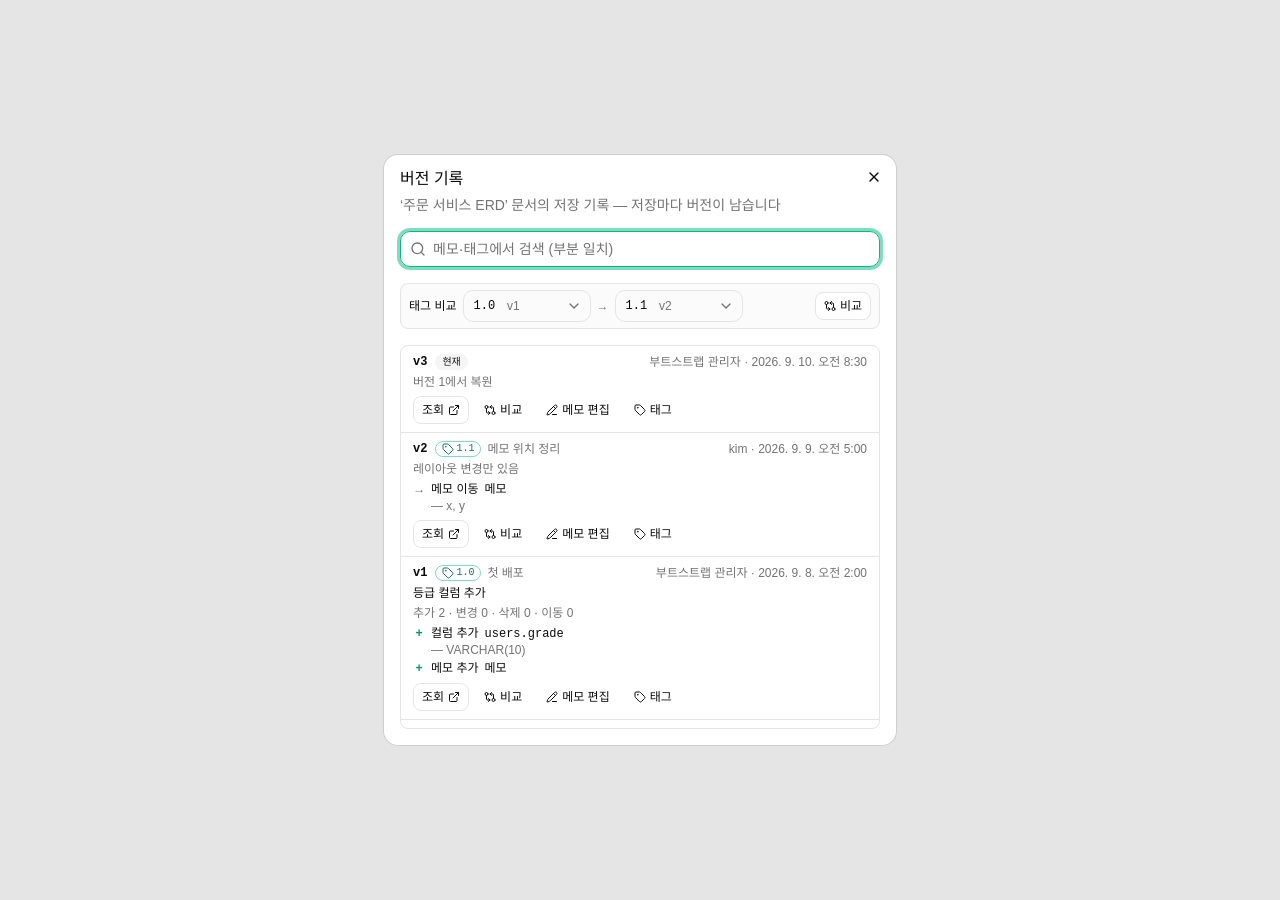
Test: VersionHistoryDialog — 태그 › 태그와 설명을 붙이면 PATCH 뒤 목록에 보인다
Click the button with test id "version-tag-edit" at (653, 410), box [625,396,681,424]
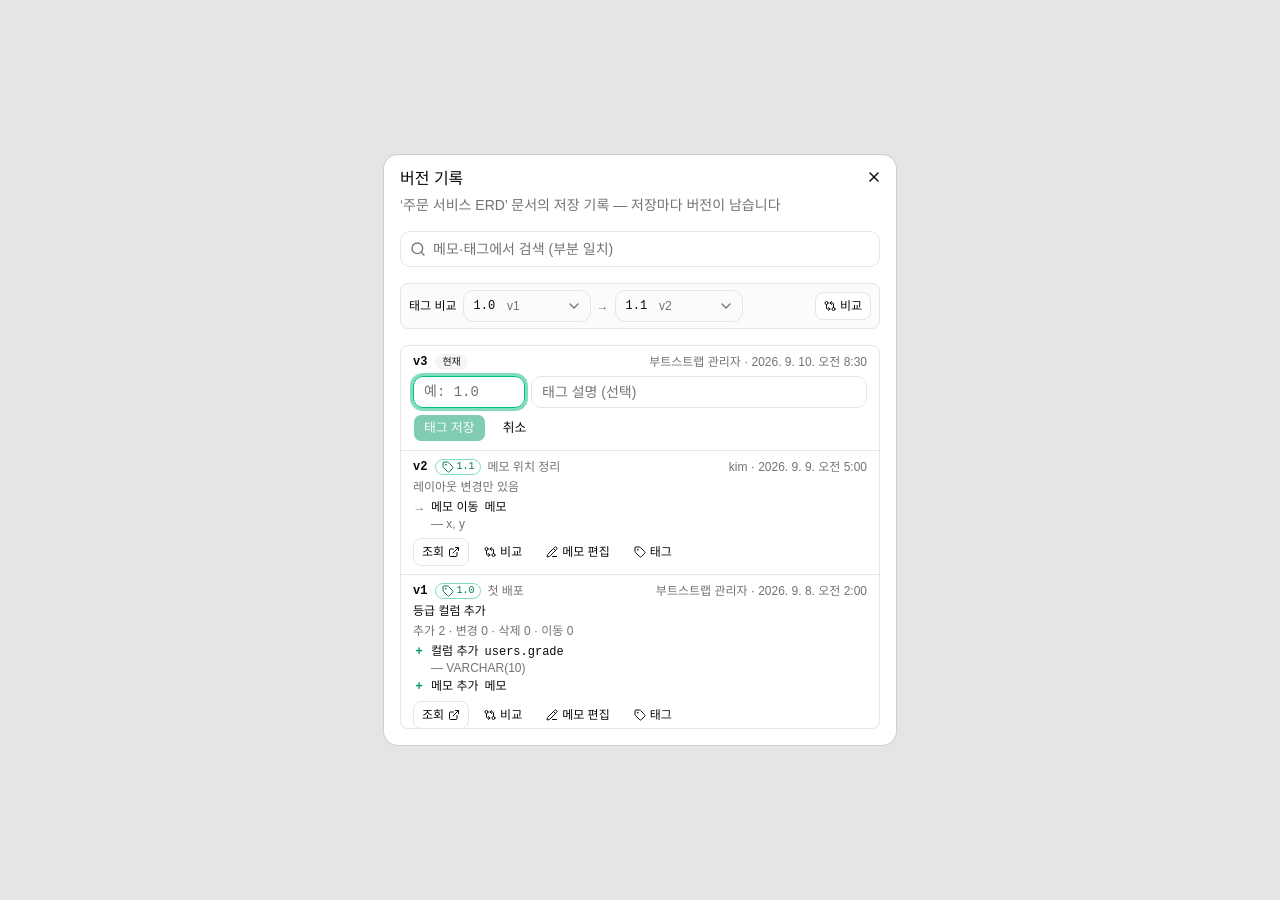
Type " 1.2 " into the field with test id "version-tag-input" at (469, 392), box [413,376,525,408]
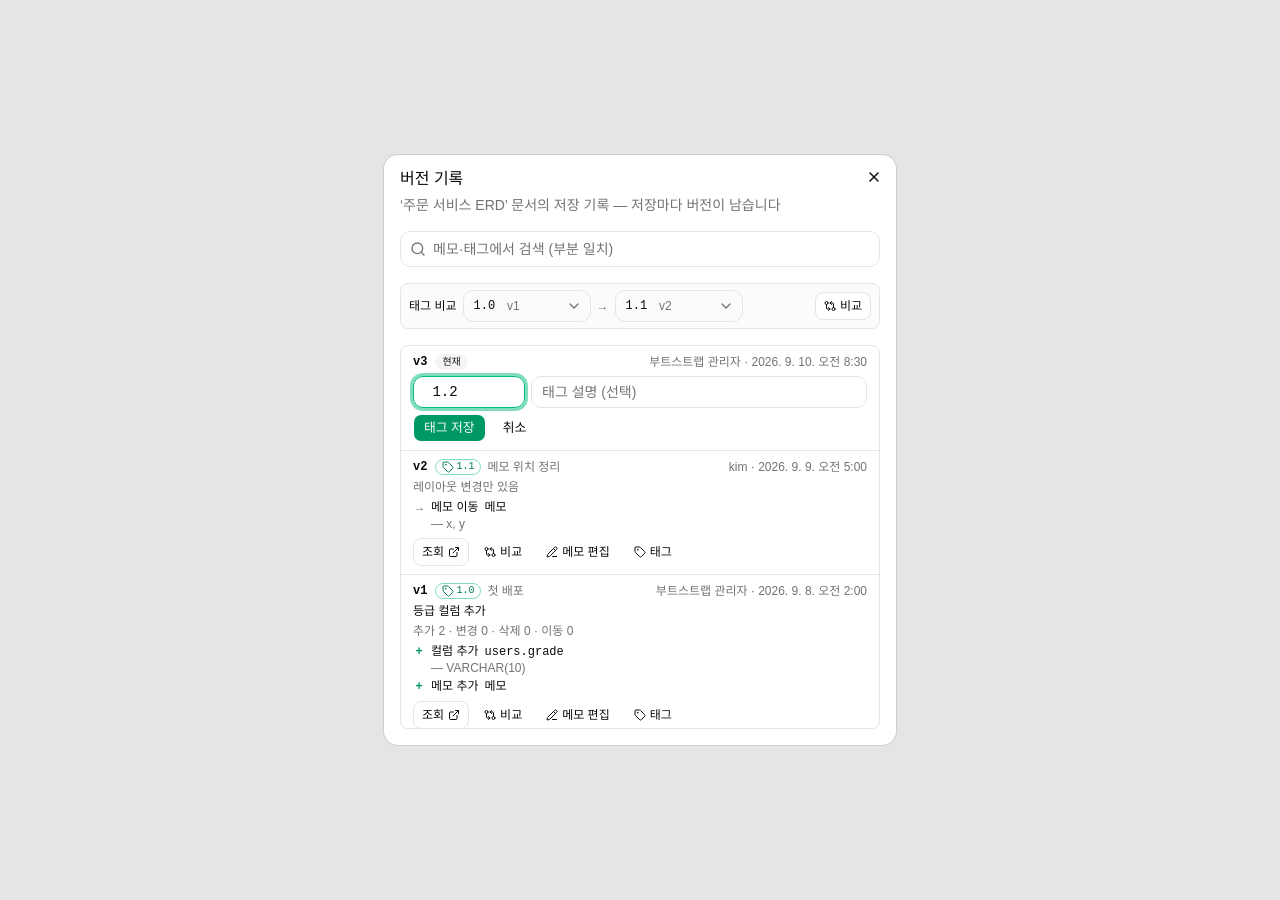
Type "결제 추가" into the field with test id "version-tag-description-input" at (699, 392), box [531,376,867,408]
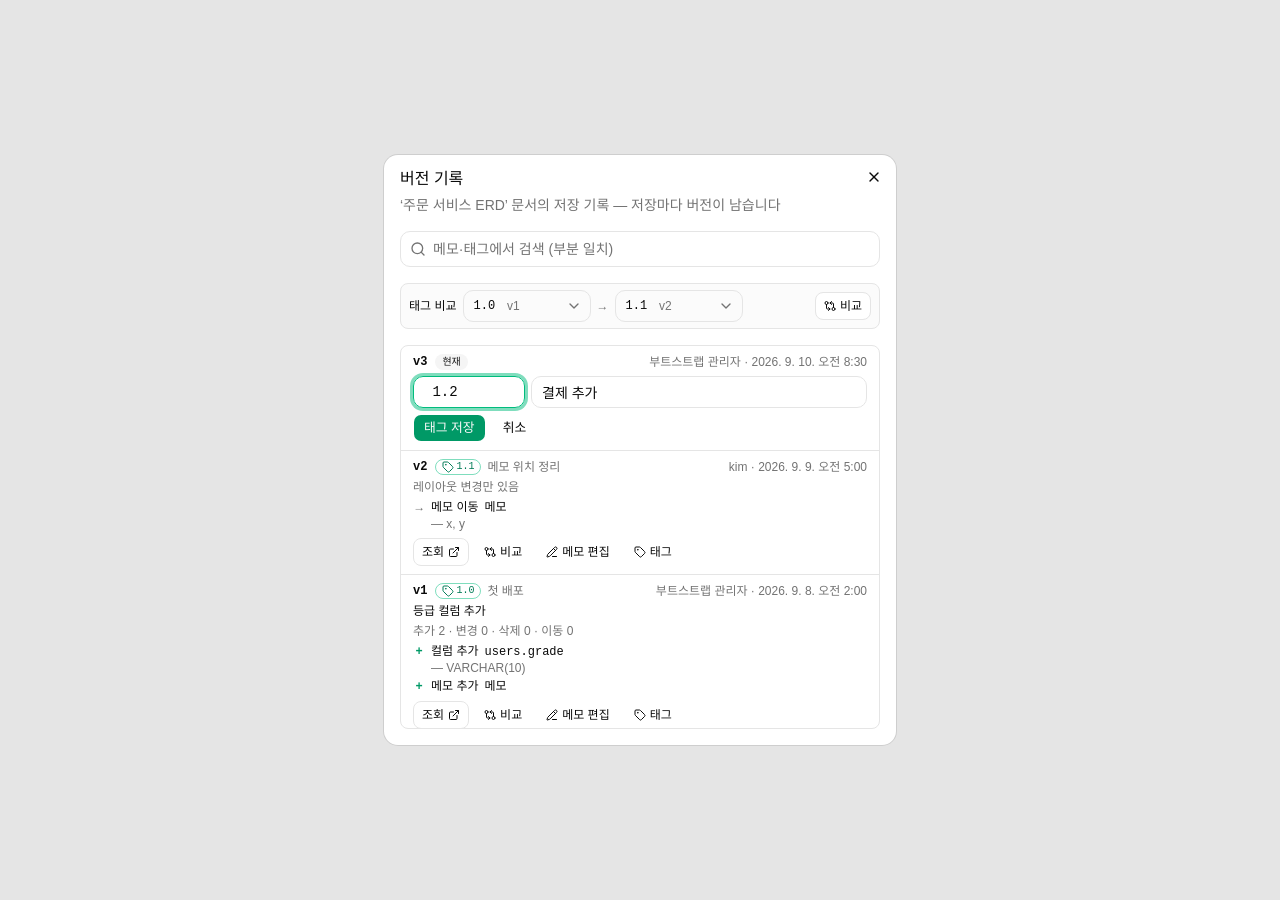
Click the button "태그 저장" at (449, 428), box [413,414,486,442]
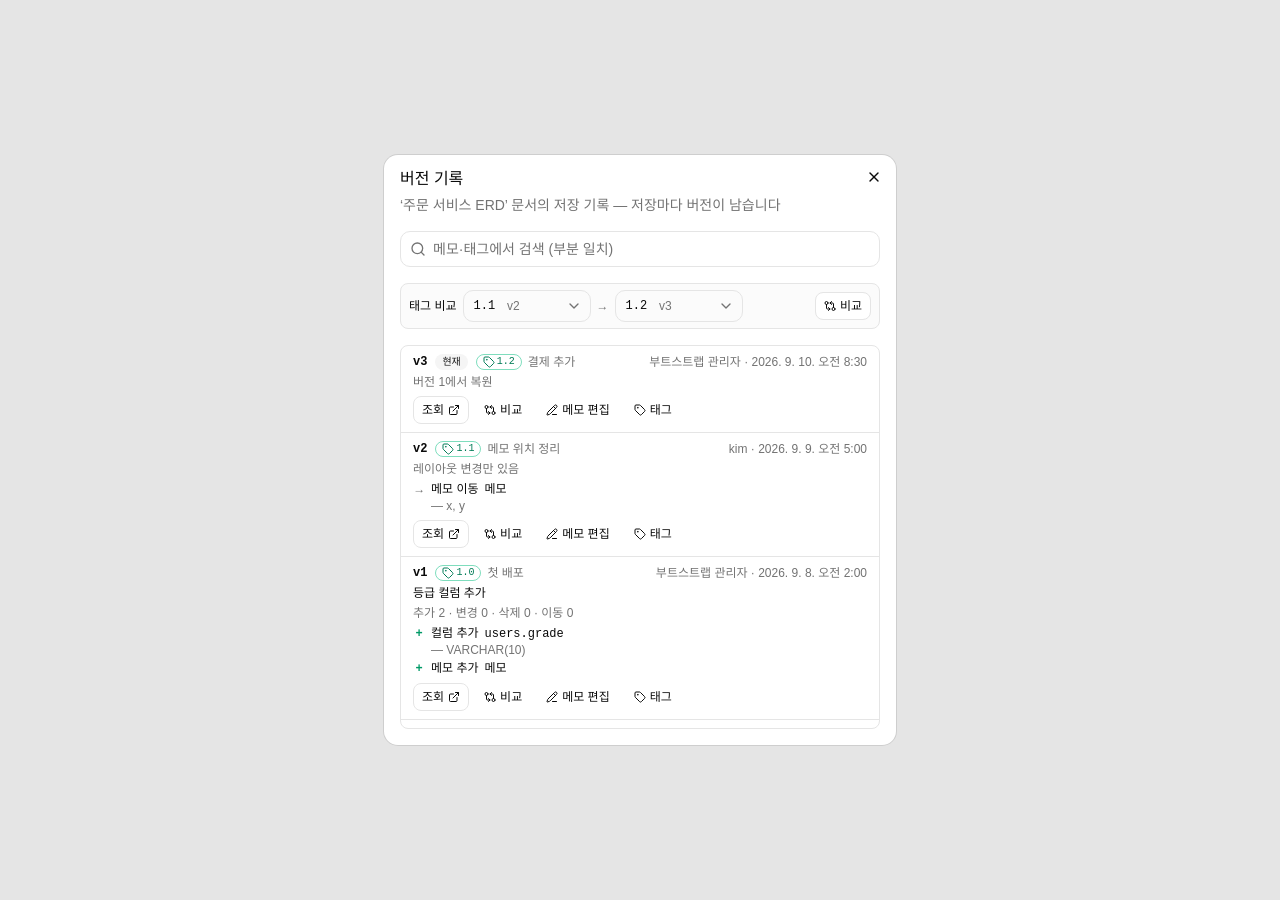
Now the icon "1.2" is shown, box [476,354,522,370]
Now the text "결제 추가" is shown, box [528,354,575,370]
